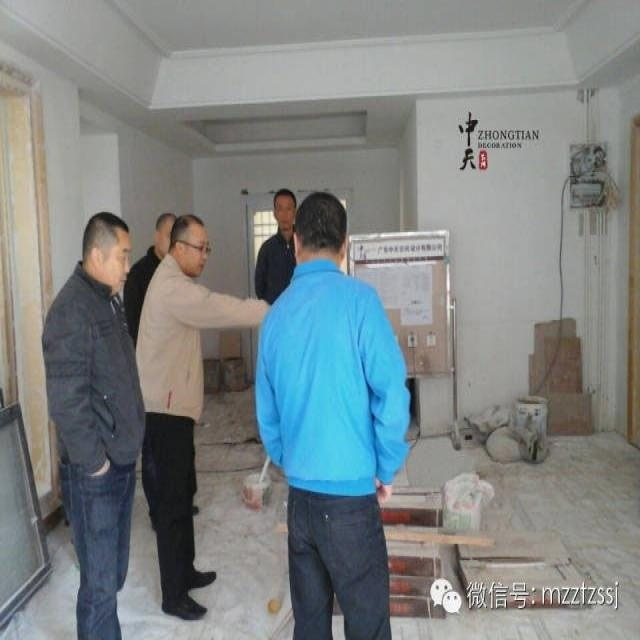Sin_Casco_Mascarrilla: (295, 191, 348, 259), (168, 214, 212, 277)
Sin_Chaleco: (258, 265, 394, 489), (43, 278, 144, 462)
